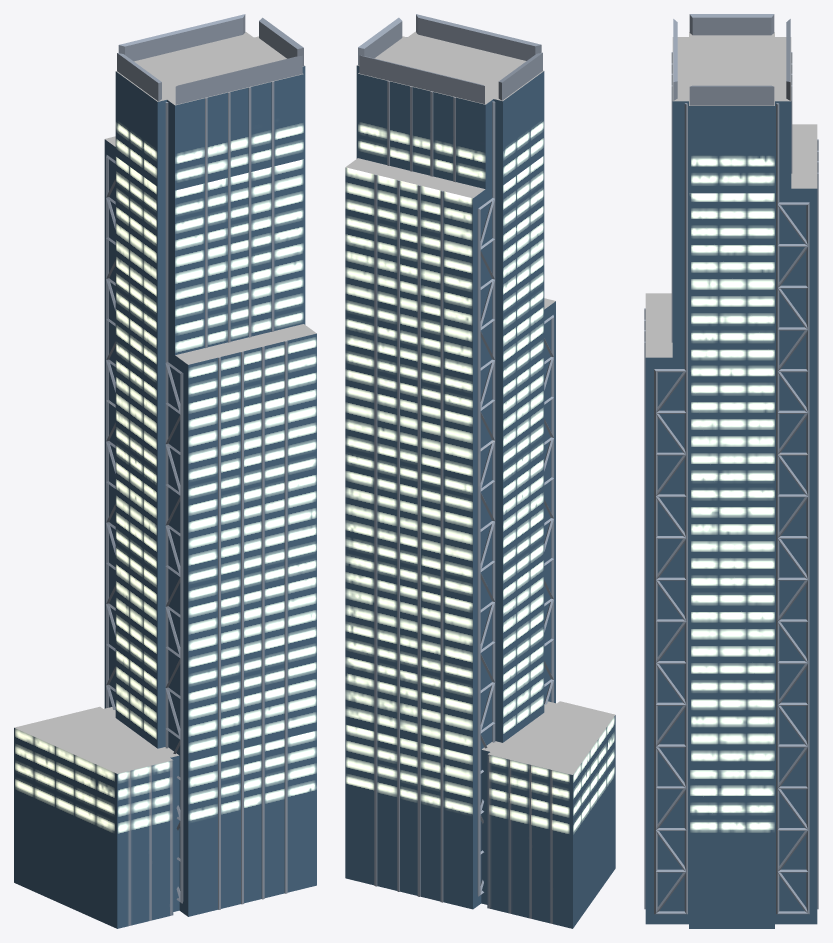
File: 3WTC.fbx
3 renders of one model, left to right at view 1: azimuth 30°, elevation 25°; view 2: azimuth 150°, elevation 25°; view 3: azimuth 270°, elevation 25°, orthographic. The views are drawn at different scales.
Visible parts, largest first — view 1: 3WTC; view 2: 3WTC; view 3: 3WTC.
Part boxes in pixels (left/top/right/bottom): 3WTC: left=14, top=14, right=316, bottom=928; 3WTC: left=345, top=14, right=615, bottom=928; 3WTC: left=644, top=14, right=818, bottom=928.
Bounding box in the file's own units: 4472 × 14998 × 2816.
1 material, 1 textured.
